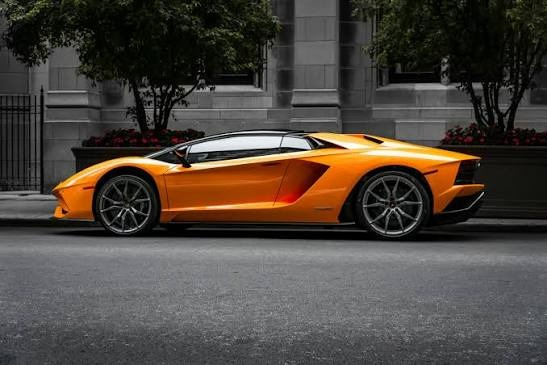car: (59, 126, 498, 236)
